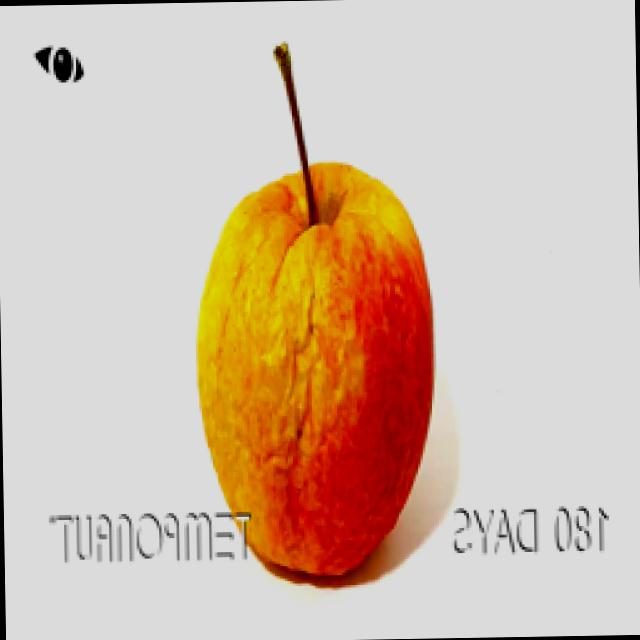Rotten_Apple: (182, 0, 441, 589)
